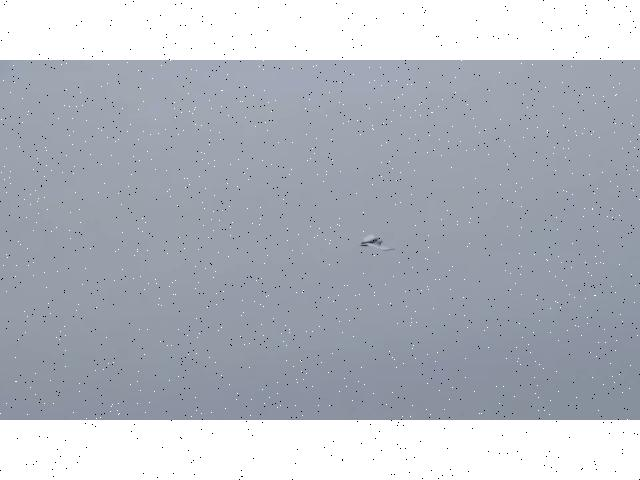Anti-Drone: (361, 236, 393, 250)
